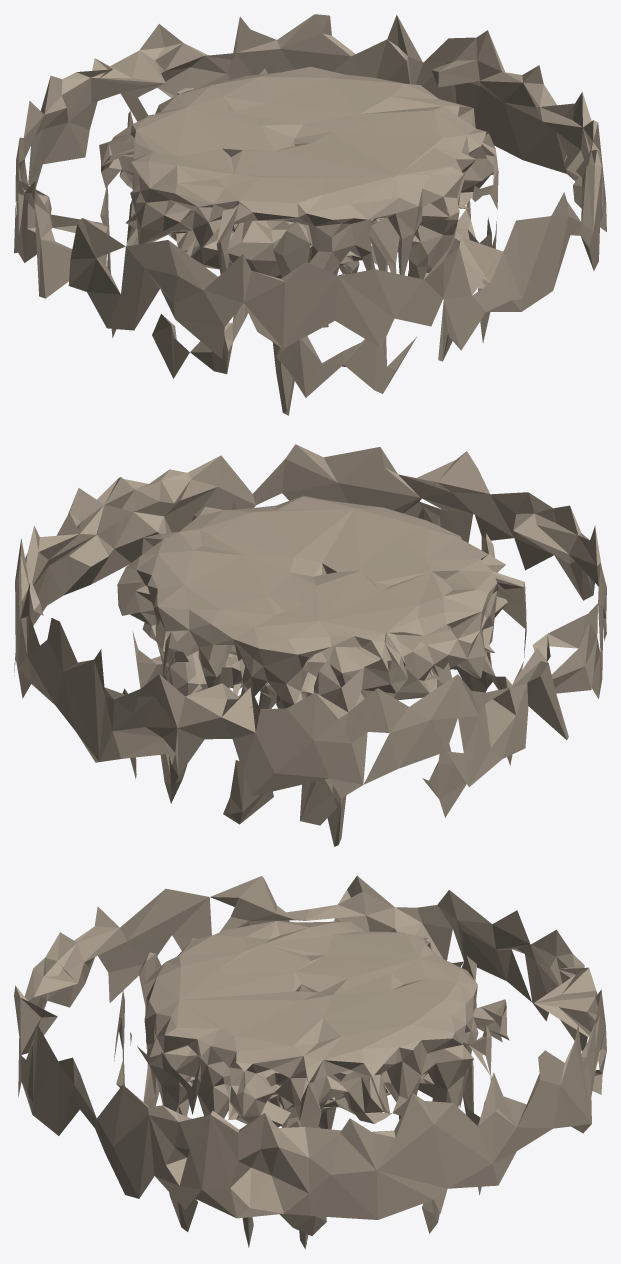
The model's file is triposg_v8.glb.
The picture shows the model from 3 angles, top to bottom: view 1: azimuth 30°, elevation 25°; view 2: azimuth 150°, elevation 25°; view 3: azimuth 270°, elevation 25°; orthographic projection. The views are drawn at different scales.
Visible parts, largest first — view 1: world; view 2: world; view 3: world.
Boxes of the visible parts, x1,y1,x2,y2 form: world: (14, 14, 606, 415); world: (14, 444, 606, 846); world: (14, 876, 606, 1248).
Bounding box in the file's own units: 1.76 × 0.9179 × 1.78.
